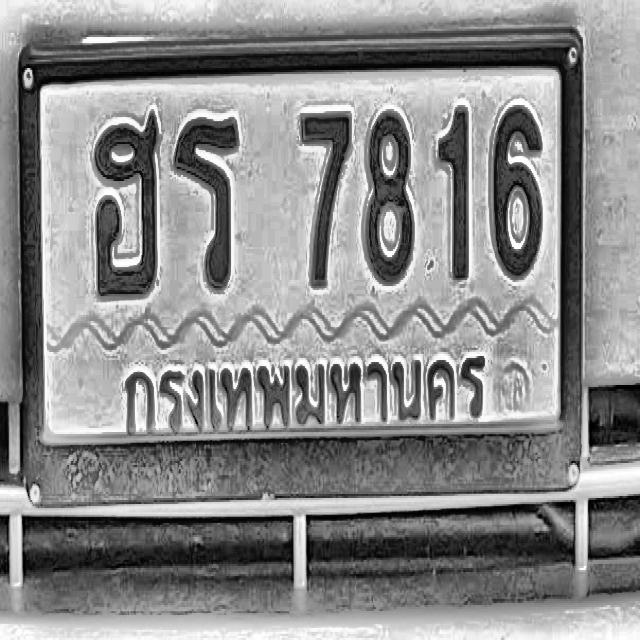license-plate: (17, 18, 587, 516)
